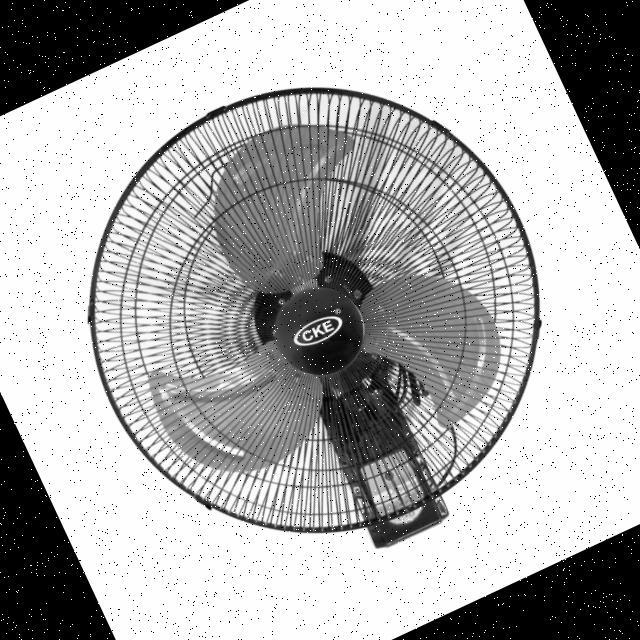fan: (11, 10, 624, 627)
